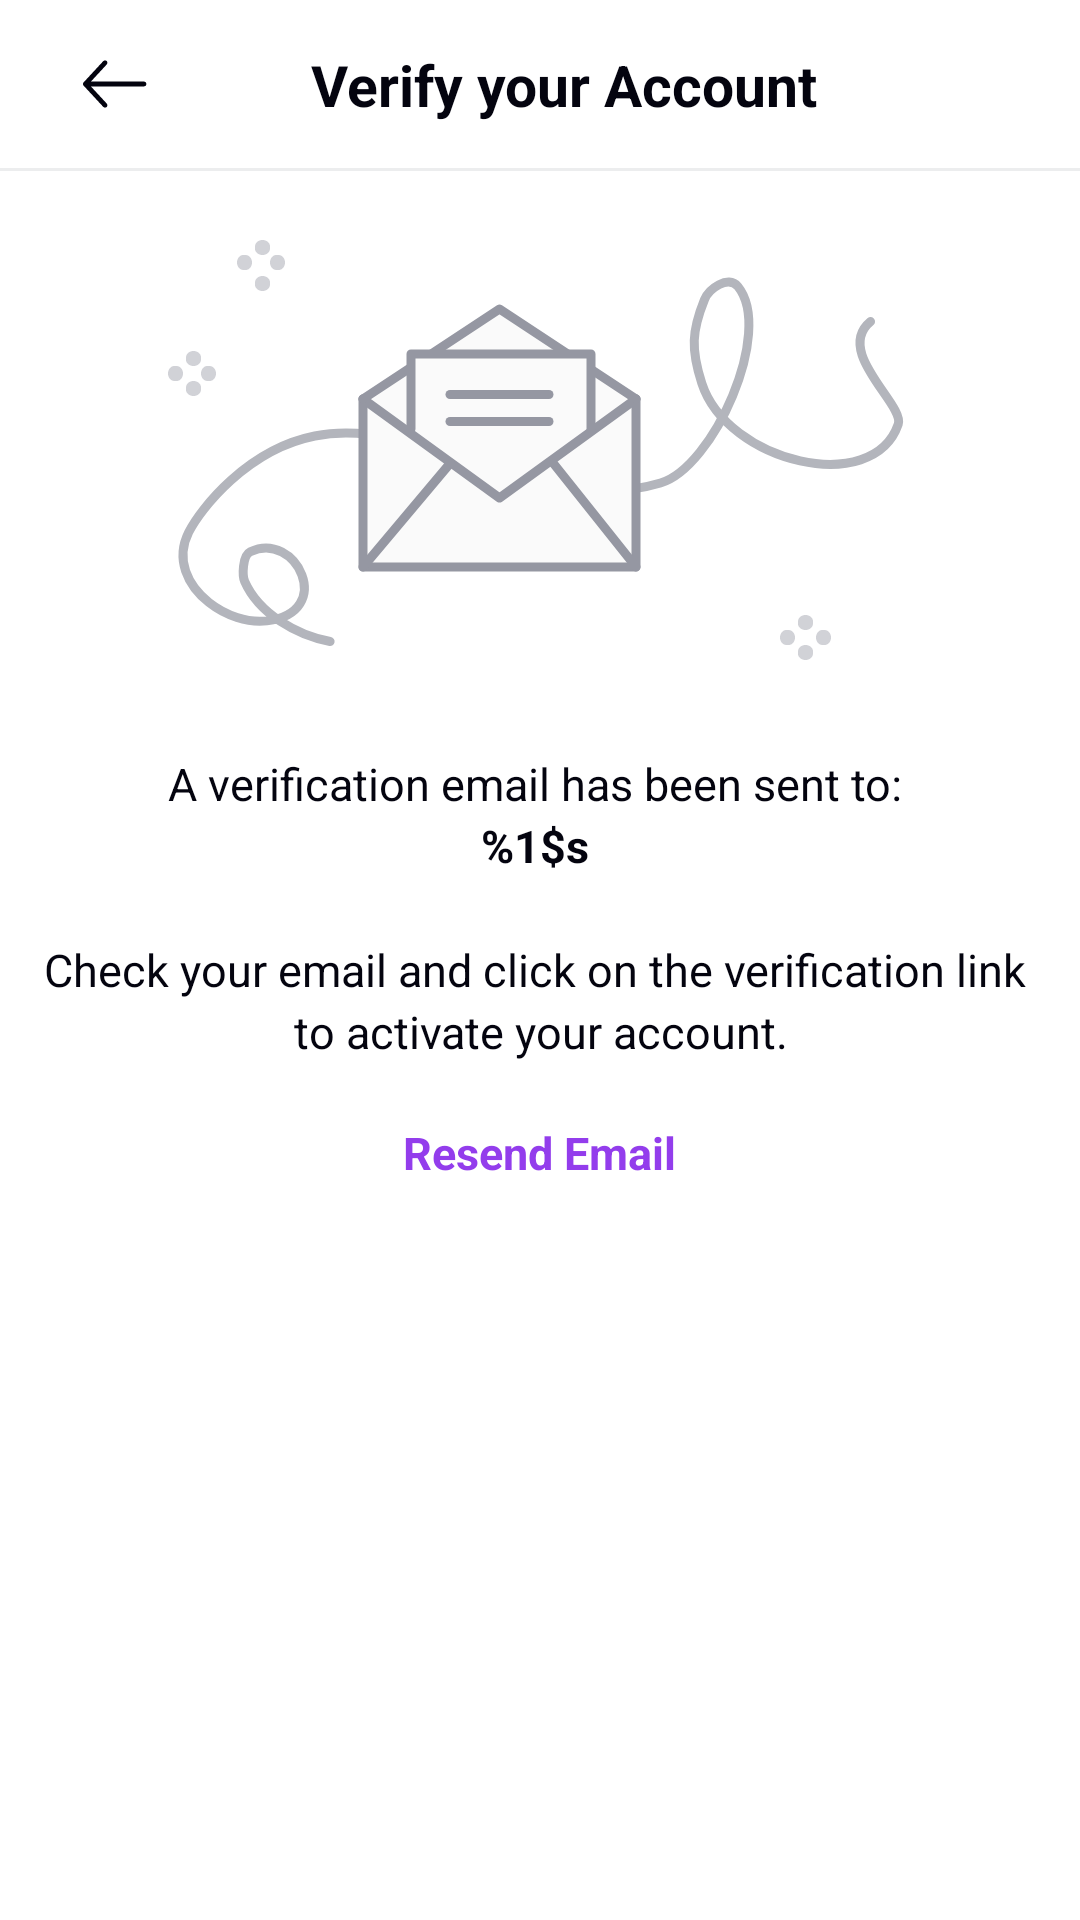

Icons on this 1080 x 1920 Android screen, each with its box as (x1, y1, x2, y2):
Button back: (83, 60, 147, 108)
